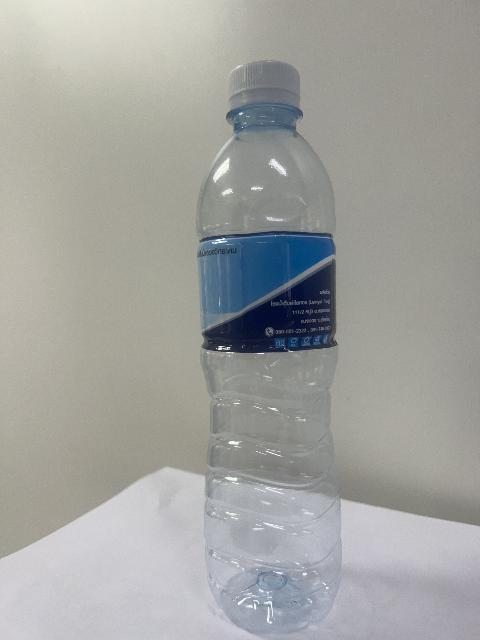bottle: (198, 61, 341, 632)
